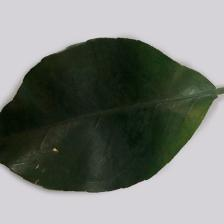healthy: (20, 61, 201, 176)
